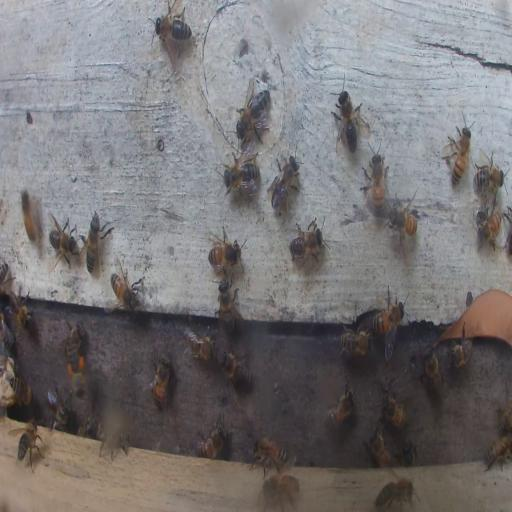bee: (332, 81, 364, 152), (236, 84, 272, 145), (268, 153, 301, 209), (152, 4, 192, 49), (447, 117, 472, 188), (385, 195, 419, 247), (47, 214, 80, 267), (207, 228, 245, 274), (288, 217, 324, 265), (83, 210, 109, 276), (248, 436, 290, 476), (372, 289, 404, 340), (472, 149, 505, 197), (363, 148, 387, 214), (15, 417, 43, 473), (324, 384, 356, 432), (110, 269, 142, 313), (223, 152, 258, 192), (377, 476, 417, 508), (380, 388, 408, 432), (147, 355, 170, 408), (217, 279, 240, 332), (20, 188, 42, 243), (367, 426, 395, 468), (422, 347, 444, 400), (220, 350, 250, 388), (185, 327, 216, 363), (474, 207, 504, 244), (195, 422, 225, 459), (263, 476, 299, 505), (446, 331, 473, 369), (48, 386, 70, 432), (484, 437, 512, 472), (67, 340, 85, 394), (339, 330, 372, 359), (10, 290, 32, 330), (64, 319, 84, 362), (99, 430, 130, 456), (6, 372, 31, 403), (0, 307, 15, 351), (76, 414, 98, 436), (497, 400, 510, 434), (403, 440, 417, 468), (0, 261, 9, 293)
